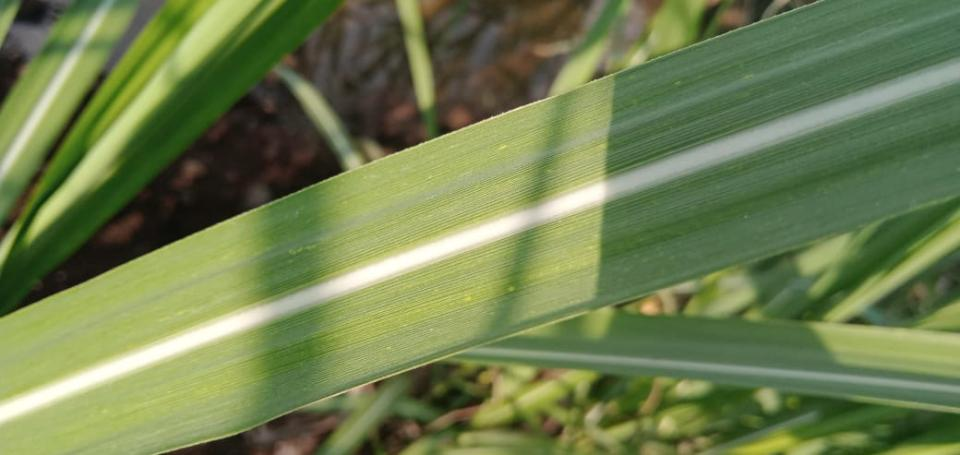Healthy: (0, 0, 959, 405), (0, 85, 959, 454), (482, 310, 959, 383)
